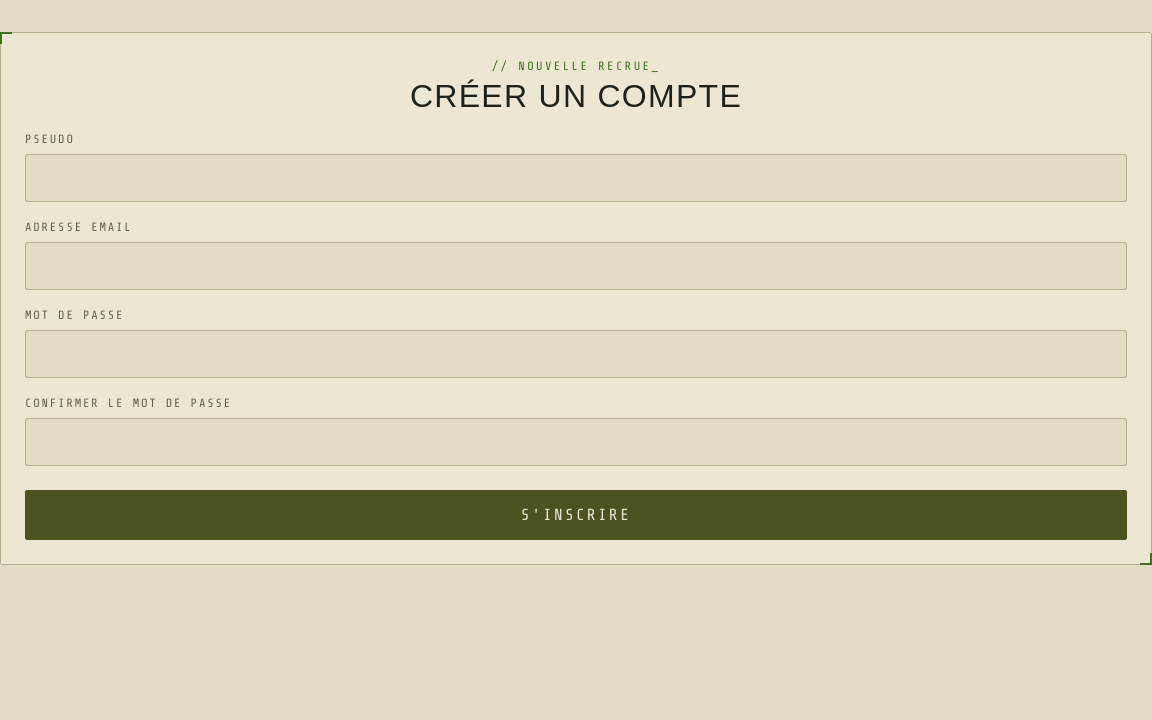
Composant Register (US 3.1) › refuse l'inscription si les mots de passe ne correspondent pas
Type "serpent" into the field labelled "Pseudo" at x=576, y=178, box 25,154 -> 1127,202
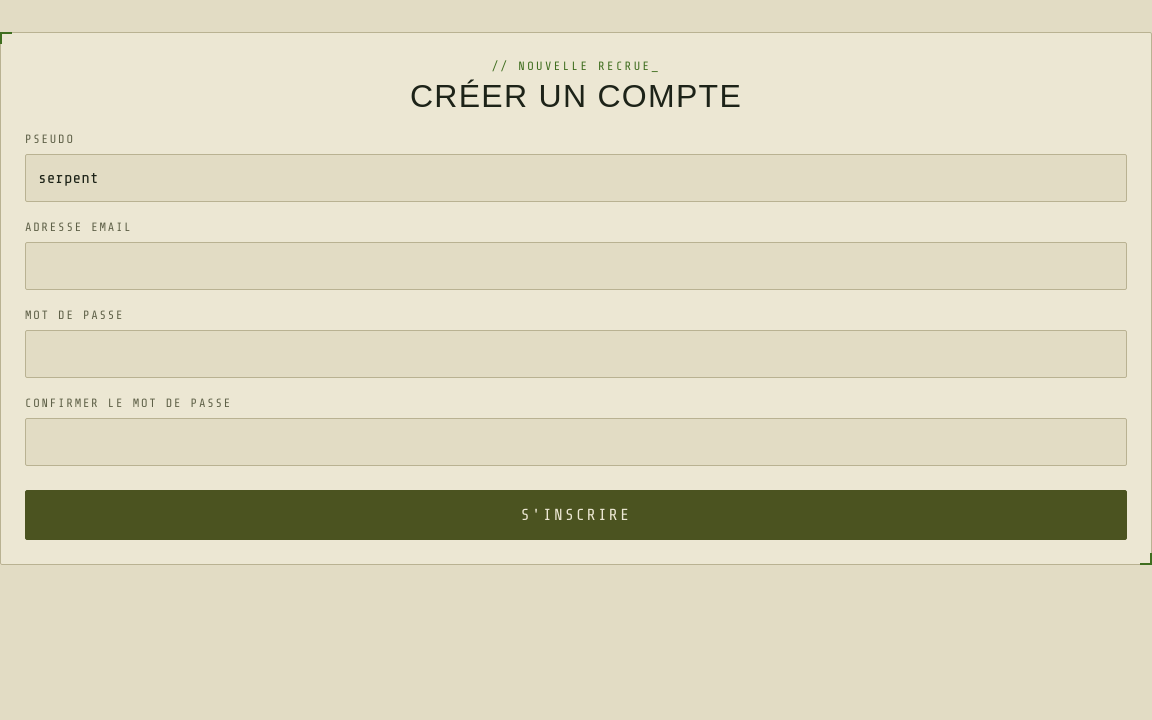
Type "test@exemple.com" into the field labelled "Adresse email" at x=576, y=266, box 25,242 -> 1127,290
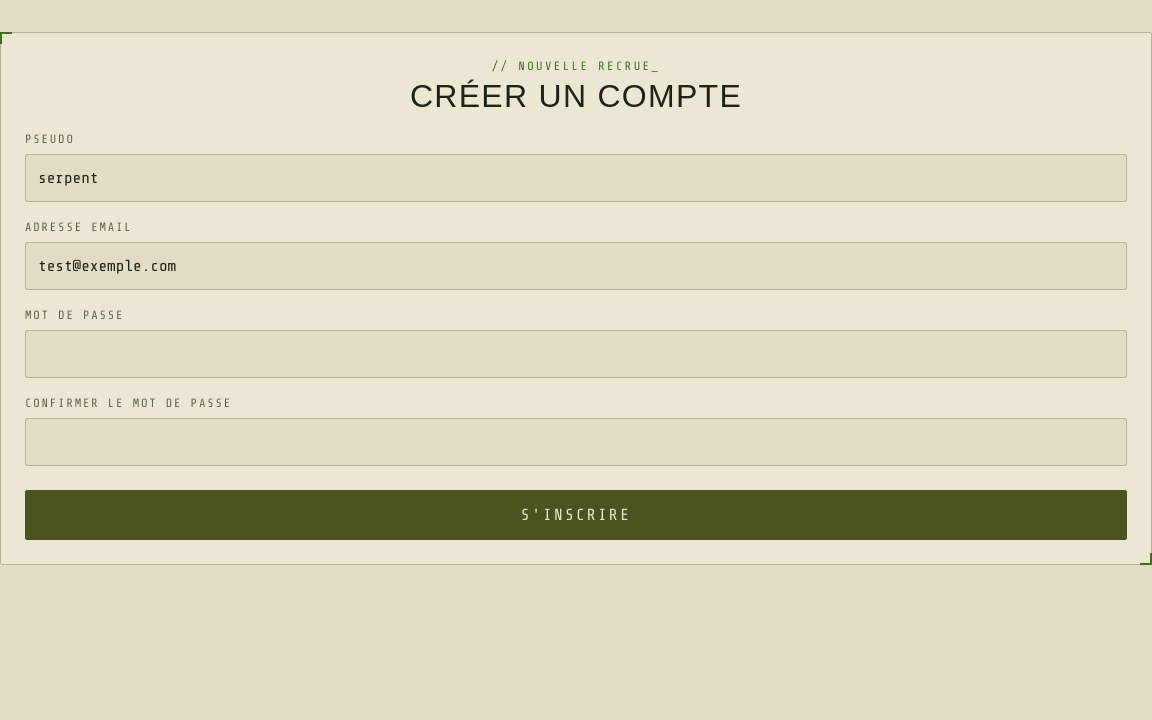
Type "motdepasse1" into the password field labelled "Mot de passe" at x=576, y=354, box 25,330 -> 1127,378
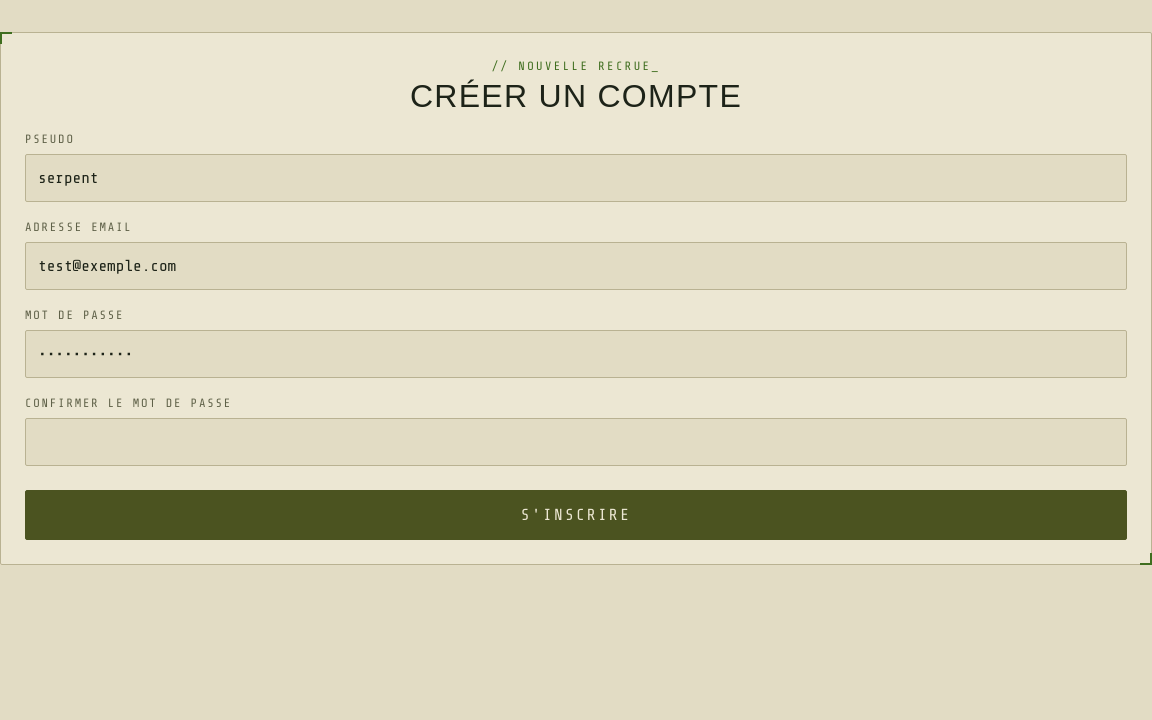
Type "motdepasse2" into the password field labelled "Confirmer le mot de passe" at x=576, y=442, box 25,418 -> 1127,466
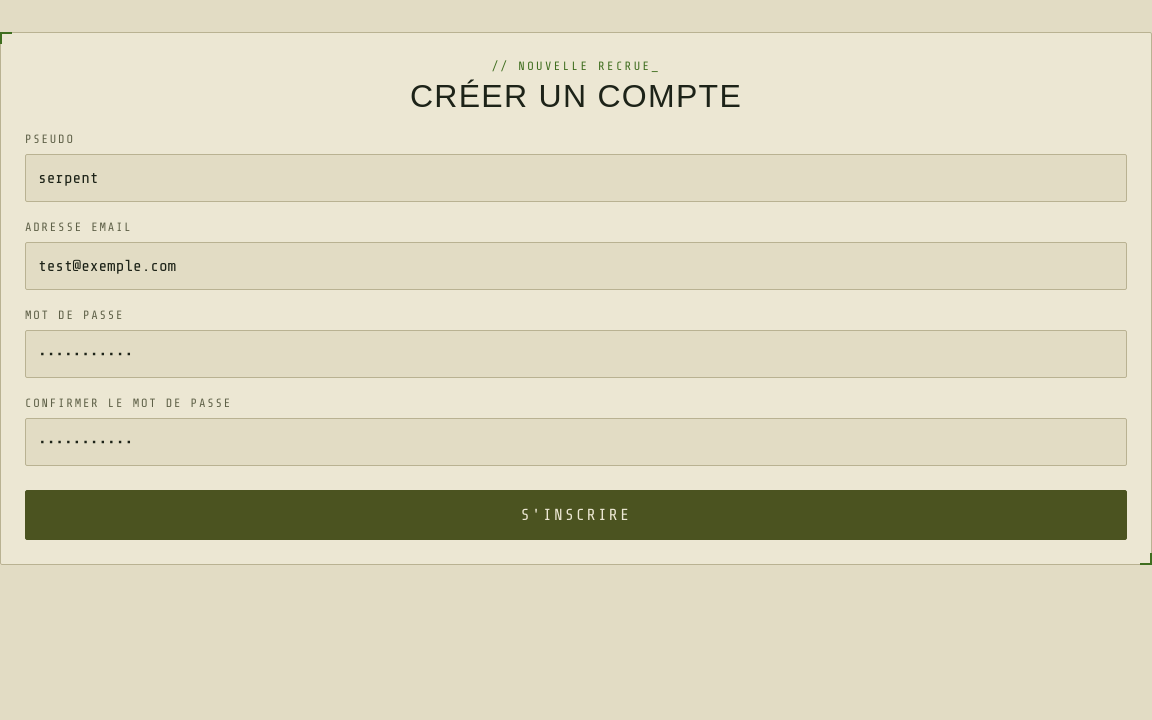
Click the button "S'inscrire" at x=576, y=515, box 25,490 -> 1127,540
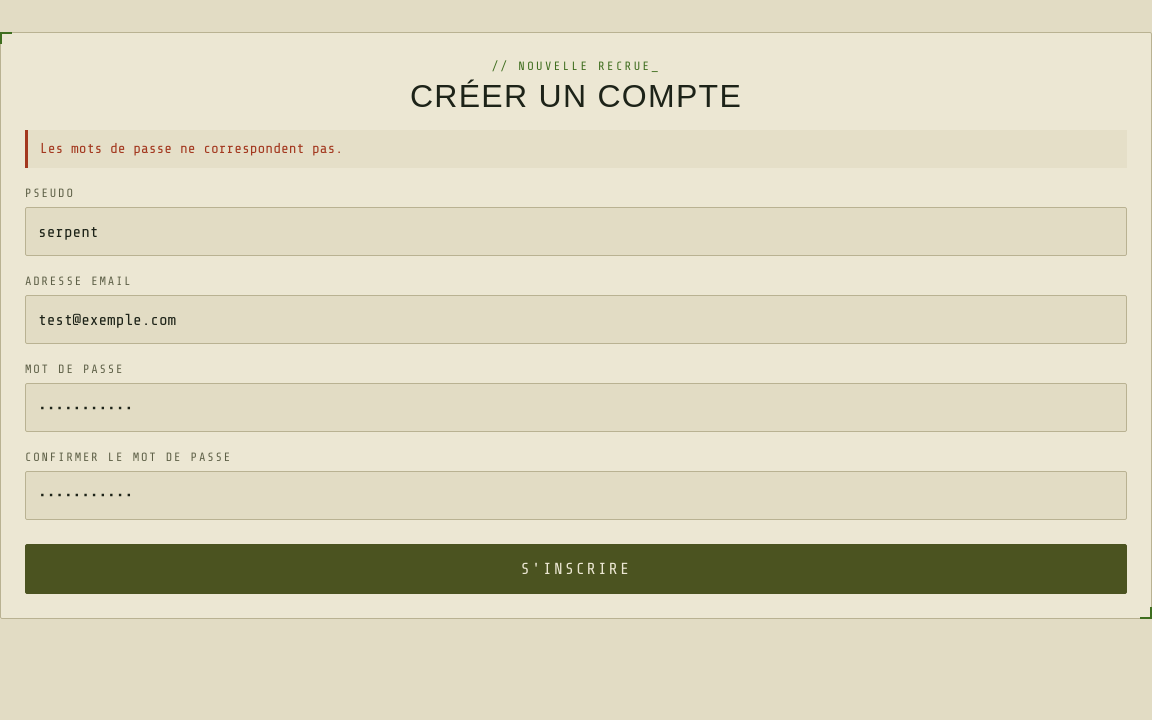
Result: the text "Les mots de passe ne correspondent pas." is shown at 25,130 -> 1127,168
